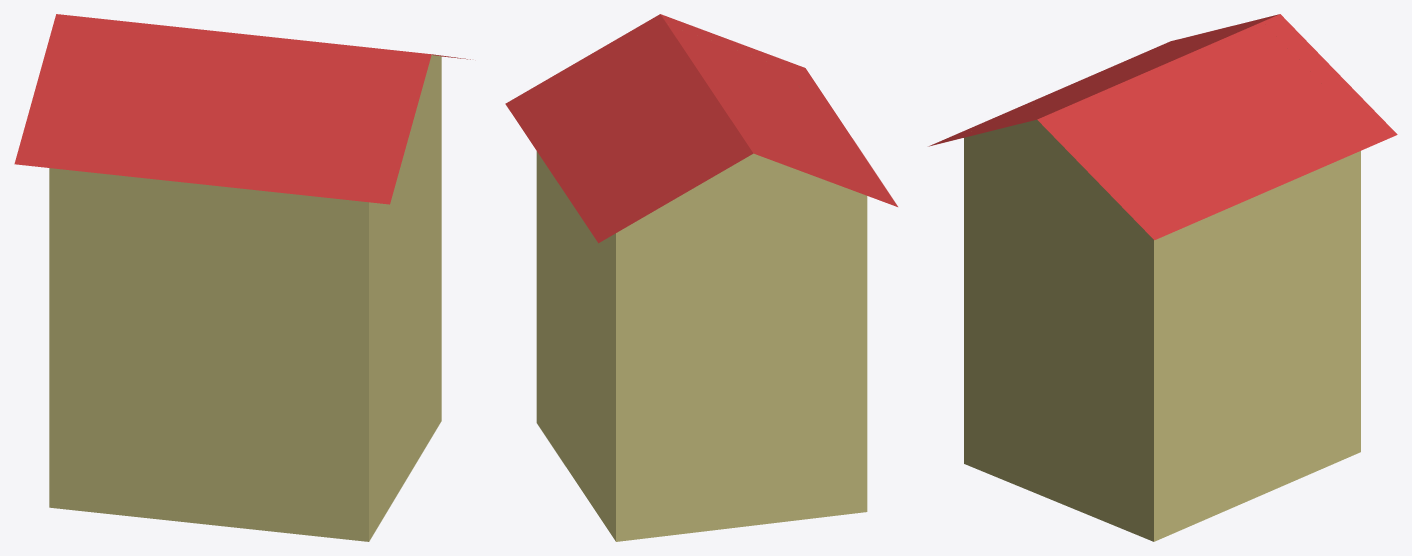
The picture shows the model from 3 angles, left to right: view 1: azimuth 30°, elevation 25°; view 2: azimuth 150°, elevation 25°; view 3: azimuth 270°, elevation 25°; orthographic projection. The views are drawn at different scales.
Parts seen in each view (by area): view 1: group_5, group_3, group_4; view 2: group_5, group_3, group_4; view 3: group_5, group_3, group_4.
Boxes of the visible parts, x1=… form: group_5: x1=49, y1=55, x2=441, y2=541; group_3: x1=14, y1=14, x2=403, y2=202; group_4: x1=16, y1=51, x2=470, y2=204; group_5: x1=536, y1=151, x2=867, y2=541; group_3: x1=505, y1=14, x2=897, y2=218; group_4: x1=506, y1=14, x2=897, y2=242; group_5: x1=964, y1=119, x2=1360, y2=541; group_3: x1=965, y1=14, x2=1385, y2=240; group_4: x1=928, y1=14, x2=1397, y2=239.
Bounding box in the file's own units: 13.59 × 13.57 × 12.4.
